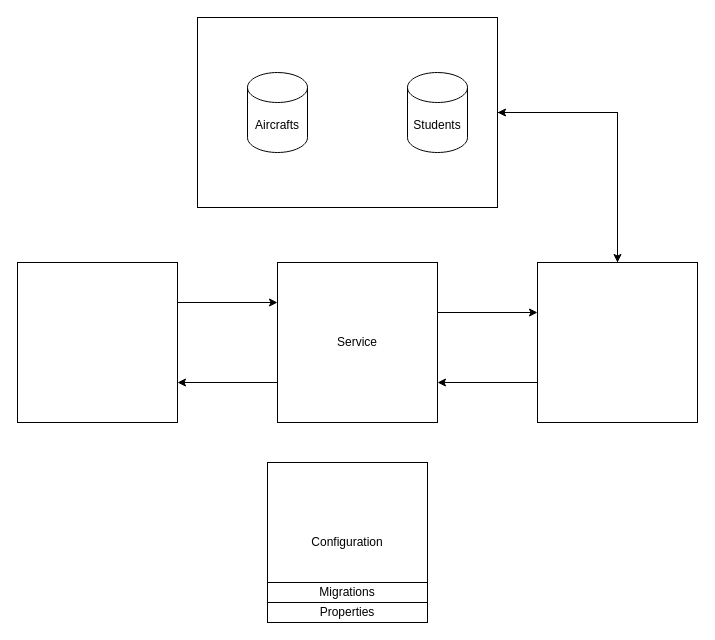
Image size: 715x640. Some labels were removed from this diagram. The centre of each missing label's shape, as x and y in pixels:
"Controller" goes at [97,342].
"Persistence" goes at [617,342].
